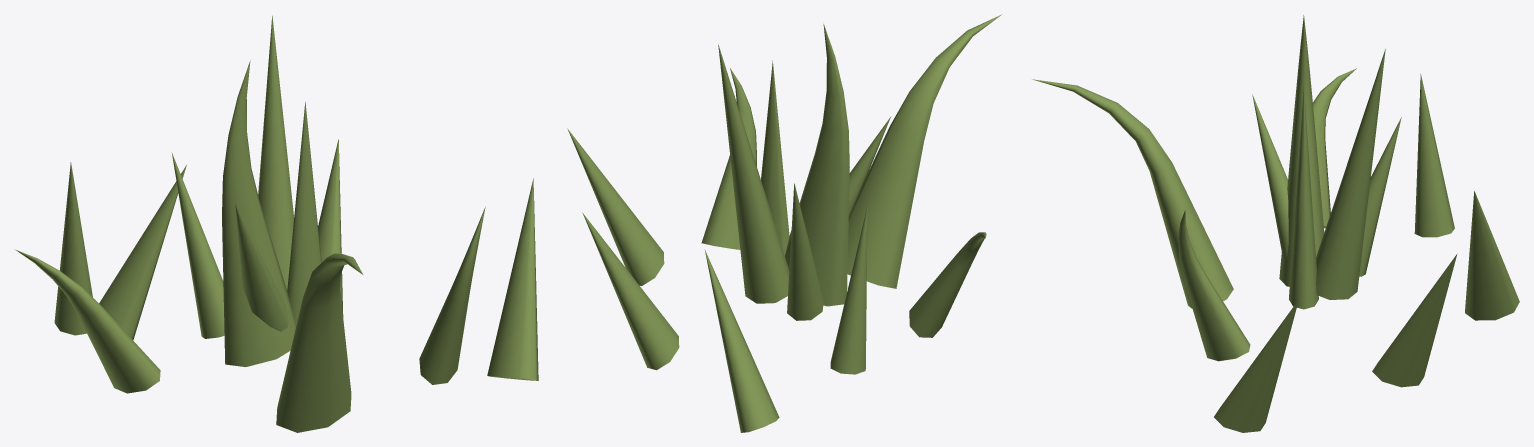
File: atoll_grassCluster_Med.fbx
The picture shows the model from 3 angles, left to right: view 1: azimuth 30°, elevation 25°; view 2: azimuth 150°, elevation 25°; view 3: azimuth 270°, elevation 25°; orthographic projection. The views are drawn at different scales.
Parts seen in each view (by area): view 1: pCone16, pCone19, pCone25, pCone18, pCone26, pCone27, pCone21, pCone17, pCone23, pCone22, pCone24, pCone20; view 2: pCone19, pCone16, pCone18, pCone27, pCone20, pCone25, pCone22, pCone26, pCone23, pCone21, pCone17, pCone24; view 3: pCone18, pCone19, pCone21, pCone27, pCone25, pCone20, pCone16, pCone17, pCone22, pCone24, pCone23, pCone26.
Boxes of the visible parts, x1,y1,x2,y2 form: pCone16: [222, 61, 295, 366]; pCone19: [276, 253, 363, 432]; pCone25: [487, 178, 538, 380]; pCone18: [258, 15, 294, 290]; pCone26: [15, 249, 160, 393]; pCone27: [99, 165, 186, 339]; pCone21: [419, 206, 485, 384]; pCone17: [287, 101, 321, 327]; pCone23: [171, 152, 224, 338]; pCone22: [54, 162, 92, 335]; pCone24: [235, 204, 288, 331]; pCone20: [318, 139, 343, 317]; pCone19: [847, 14, 1001, 288]; pCone16: [785, 24, 849, 306]; pCone18: [718, 44, 789, 303]; pCone27: [704, 249, 779, 432]; pCone20: [582, 212, 679, 370]; pCone25: [567, 128, 664, 285]; pCone22: [830, 206, 867, 374]; pCone26: [909, 232, 986, 337]; pCone23: [787, 183, 823, 320]; pCone21: [701, 68, 756, 249]; pCone17: [761, 60, 789, 255]; pCone24: [848, 117, 890, 219]; pCone18: [1316, 49, 1385, 299]; pCone19: [1032, 79, 1233, 308]; pCone21: [1178, 210, 1250, 361]; pCone27: [1465, 191, 1519, 320]; pCone25: [1214, 299, 1298, 432]; pCone20: [1372, 254, 1457, 387]; pCone16: [1279, 15, 1324, 286]; pCone17: [1289, 87, 1318, 309]; pCone22: [1414, 73, 1454, 237]; pCone24: [1252, 94, 1288, 260]; pCone23: [1359, 117, 1401, 276]; pCone26: [1313, 68, 1356, 228].
Bounding box in the file's own units: 5.88 × 4.13 × 5.77.
